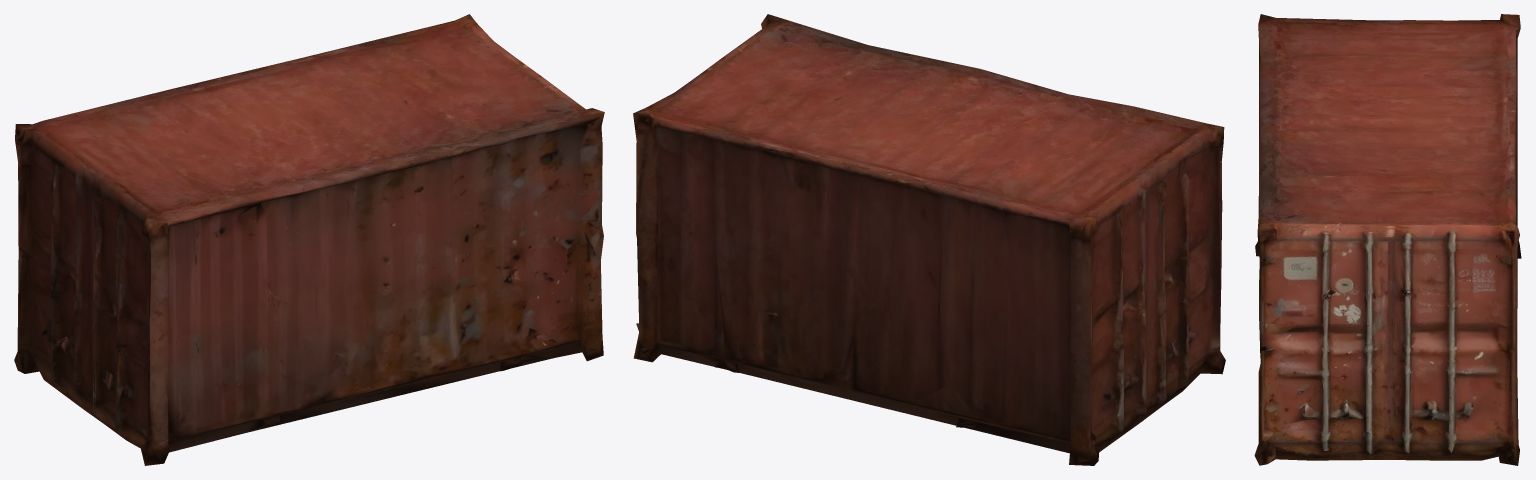
File: e_container.glb
3 views of the same model, side by side, from view 1: azimuth 30°, elevation 25°; view 2: azimuth 150°, elevation 25°; view 3: azimuth 270°, elevation 25° (orthographic). The views are drawn at different scales.
Visible parts, largest first — view 1: tripo_node_93b961b5-9134-4c8b-bfc3-5ad9d80fce95; view 2: tripo_node_93b961b5-9134-4c8b-bfc3-5ad9d80fce95; view 3: tripo_node_93b961b5-9134-4c8b-bfc3-5ad9d80fce95.
Boxes of the visible parts, <box> form: tripo_node_93b961b5-9134-4c8b-bfc3-5ad9d80fce95: <box>14,14,604,465</box>; tripo_node_93b961b5-9134-4c8b-bfc3-5ad9d80fce95: <box>633,14,1225,465</box>; tripo_node_93b961b5-9134-4c8b-bfc3-5ad9d80fce95: <box>1254,14,1521,465</box>.
Size of the model in its own units: 1 by 0.5144 by 0.5209.
Materials: 1 (1 with a texture image).
